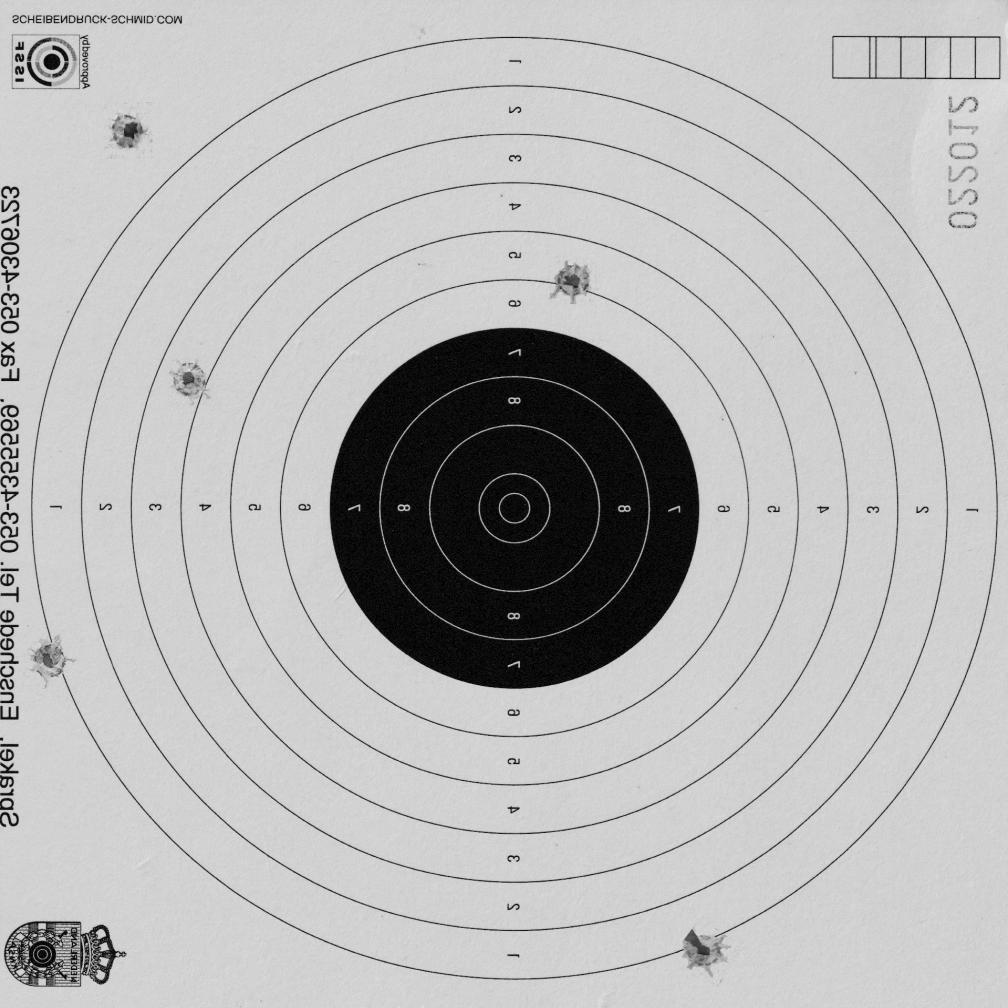0: (105, 108, 151, 153)
1: (23, 635, 77, 691), (680, 926, 734, 979)
4: (165, 356, 214, 406)
6: (546, 259, 594, 306)
Target: (23, 30, 1000, 985)
black_contour: (330, 327, 702, 689)
